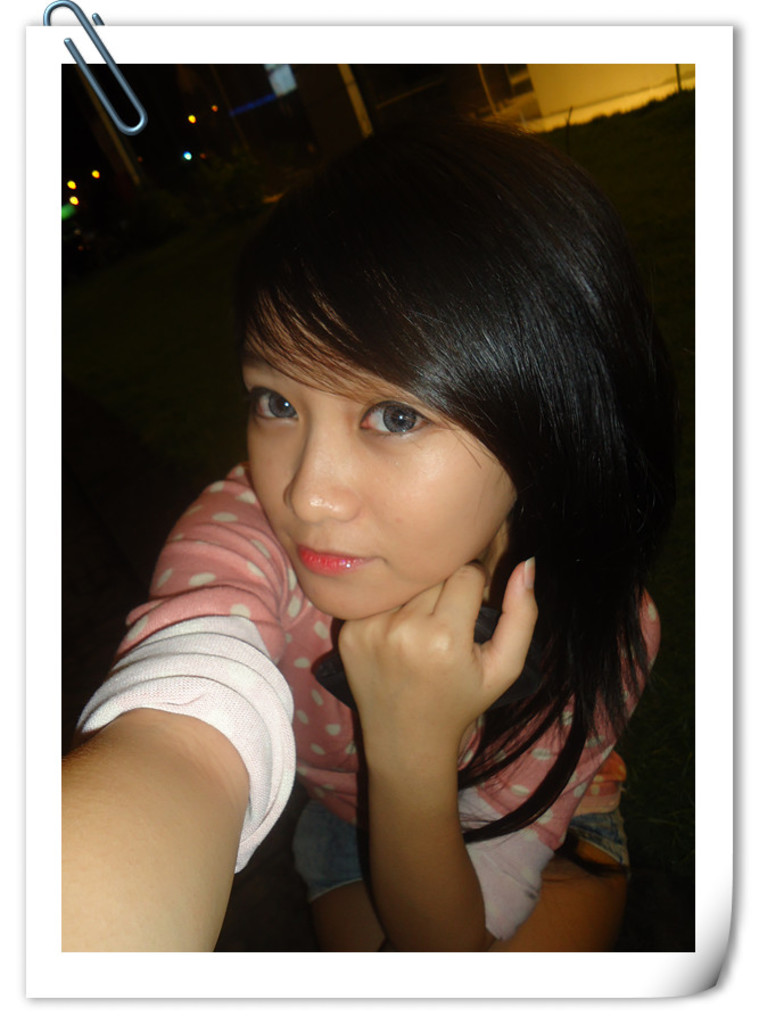Human_hand: (338, 575, 552, 741)
